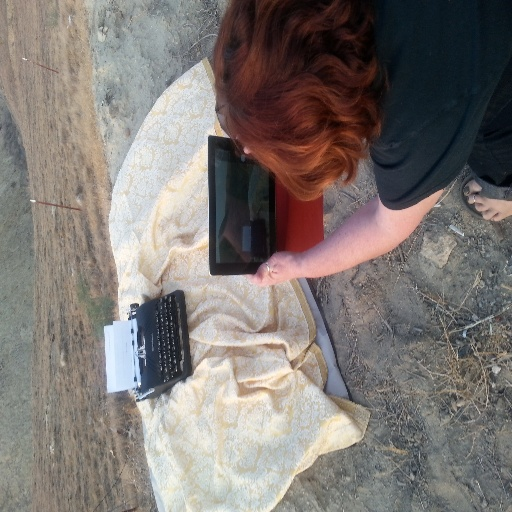hand: (254, 236, 315, 288), (229, 133, 253, 156)
